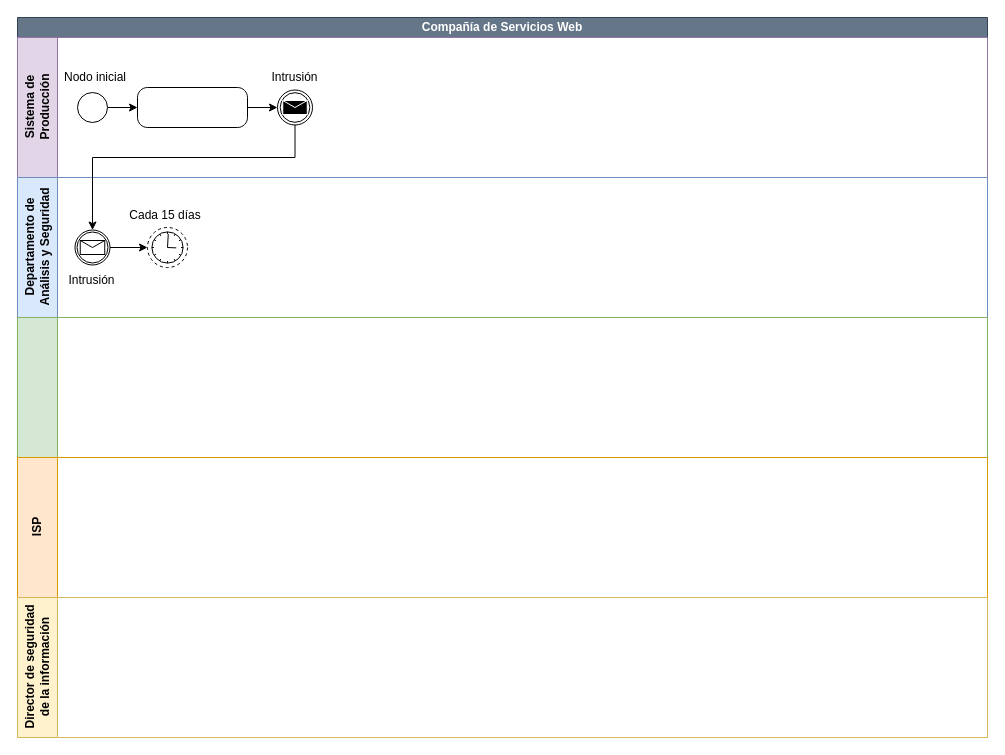
This 1005x755 diagram has some shape labels left out. Each missing label, with the centre of its shape:
"Departamento de Infraestructuras IT" goes at point 502,387.
"Detectar patrones de intrusión" goes at point 192,107.
